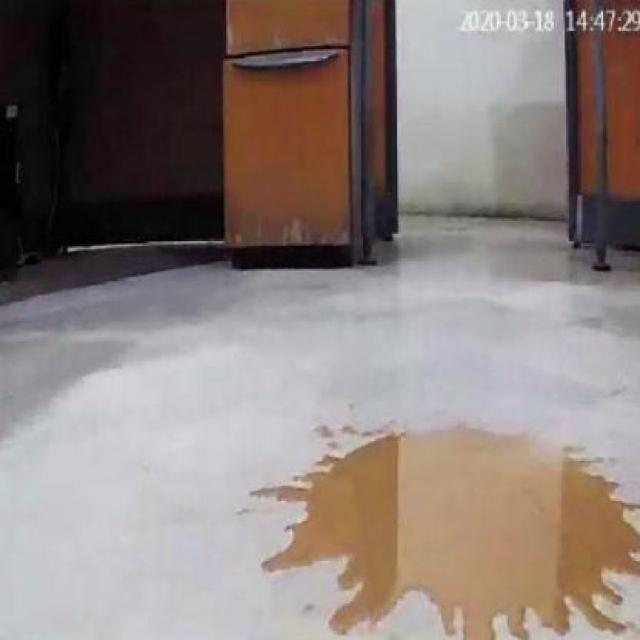spillage: (262, 430, 640, 640)
